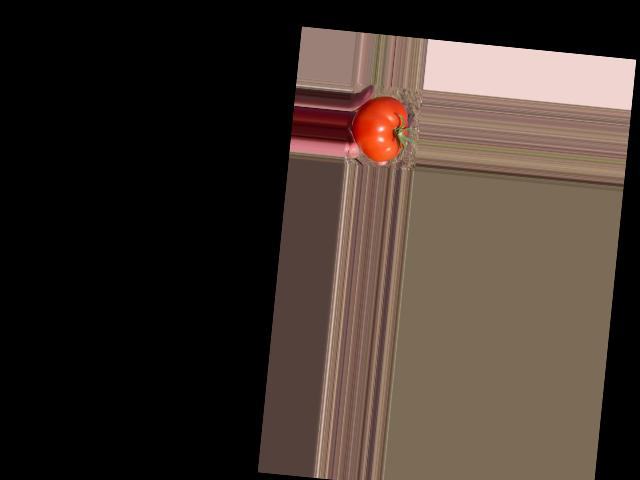tomato: (348, 93, 410, 164)
